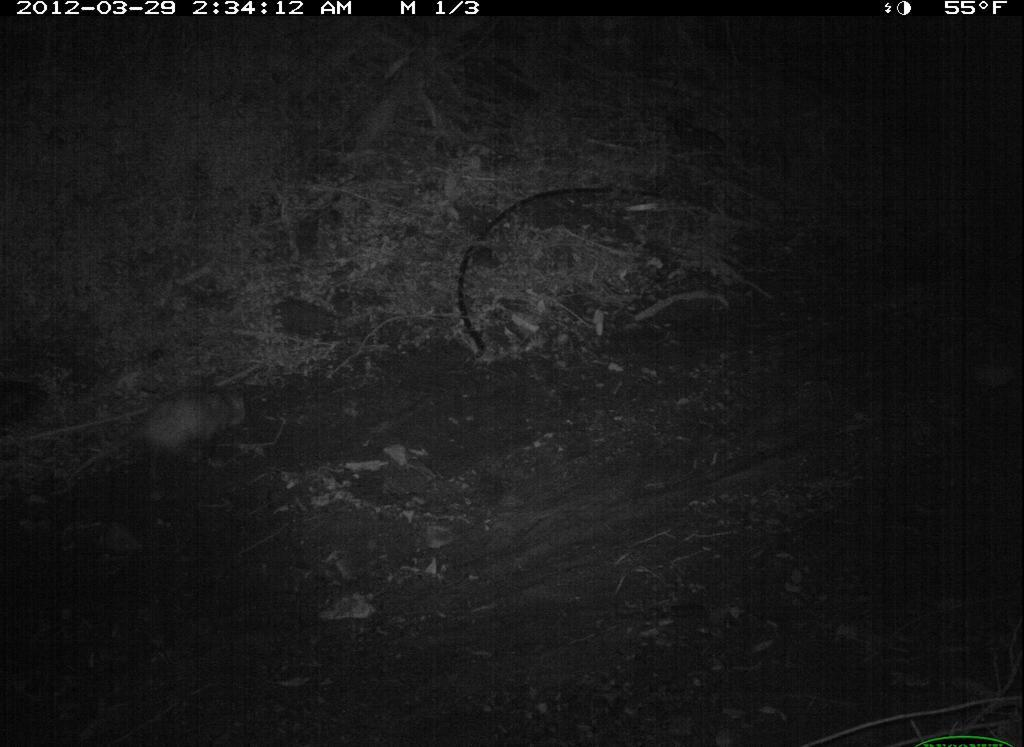opossum: (58, 388, 267, 478)
